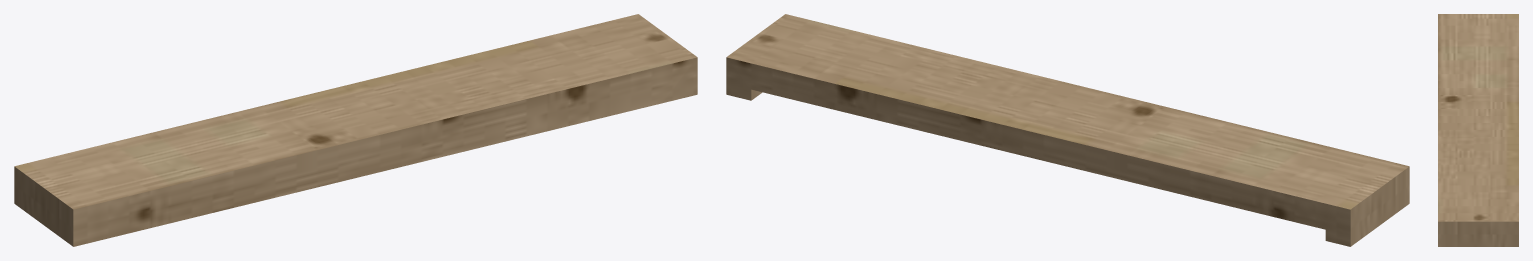
Rendered from Joglo_part_295.fbx.
3 views of the same model, side by side, from view 1: azimuth 30°, elevation 25°; view 2: azimuth 150°, elevation 25°; view 3: azimuth 270°, elevation 25° (orthographic). The views are drawn at different scales.
Visible parts, largest first — view 1: Mesh359_Wood___Pine_Grained_Horizontal_0.001; view 2: Mesh359_Wood___Pine_Grained_Horizontal_0.001; view 3: Mesh359_Wood___Pine_Grained_Horizontal_0.001.
Boxes of the visible parts, box(x1,y1,x2,y2) form: Mesh359_Wood___Pine_Grained_Horizontal_0.001: box(14, 14, 697, 246); Mesh359_Wood___Pine_Grained_Horizontal_0.001: box(726, 14, 1409, 246); Mesh359_Wood___Pine_Grained_Horizontal_0.001: box(1438, 14, 1518, 246).
Bounding box in the file's own units: 27.56 × 1.57 × 4.53.
